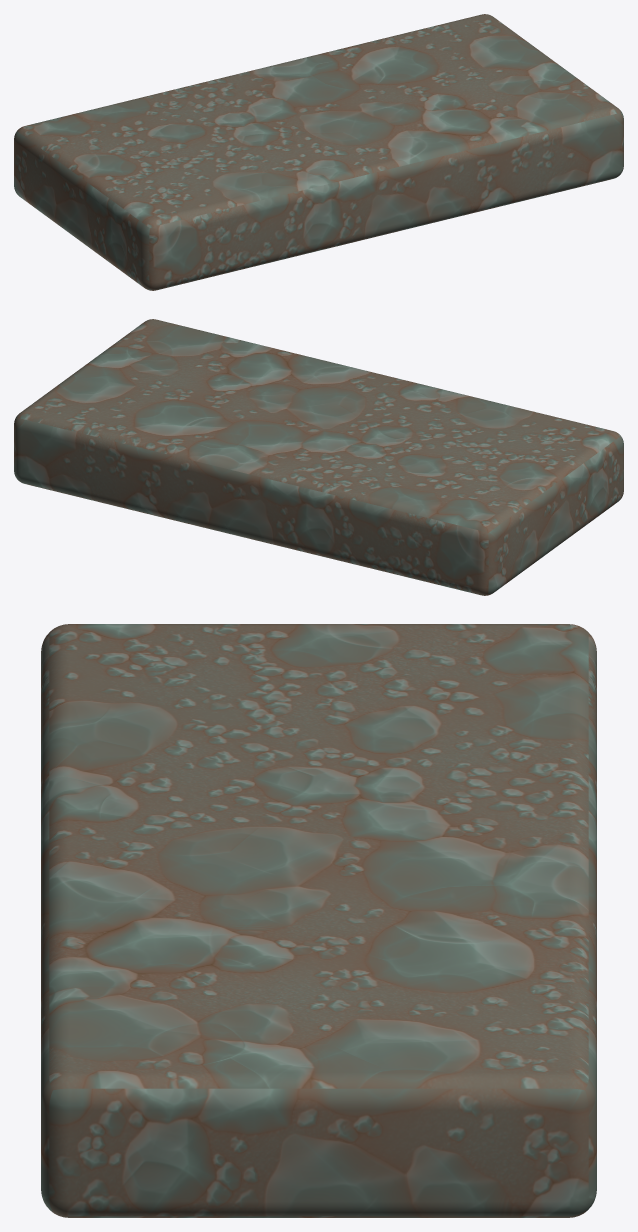
File: Subbase Course.fbx
3 renders of one model, top to bottom at view 1: azimuth 30°, elevation 25°; view 2: azimuth 150°, elevation 25°; view 3: azimuth 270°, elevation 25°, orthographic. The views are drawn at different scales.
Parts seen in each view (by area): view 1: SubBase Course (Smooth Gravel with rocks); view 2: SubBase Course (Smooth Gravel with rocks); view 3: SubBase Course (Smooth Gravel with rocks).
Part boxes in pixels (x1,y1,x2,y2): SubBase Course (Smooth Gravel with rocks): (14,14,623,290); SubBase Course (Smooth Gravel with rocks): (14,319,623,595); SubBase Course (Smooth Gravel with rocks): (41,624,596,1217).
Size of the model in its own units: 600 by 85 by 300.
1 material, 1 textured.
